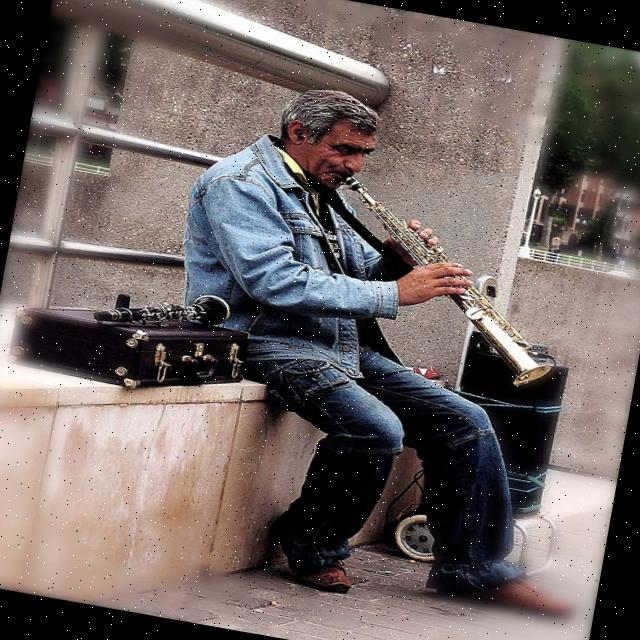clarinet: (94, 274, 235, 345)
